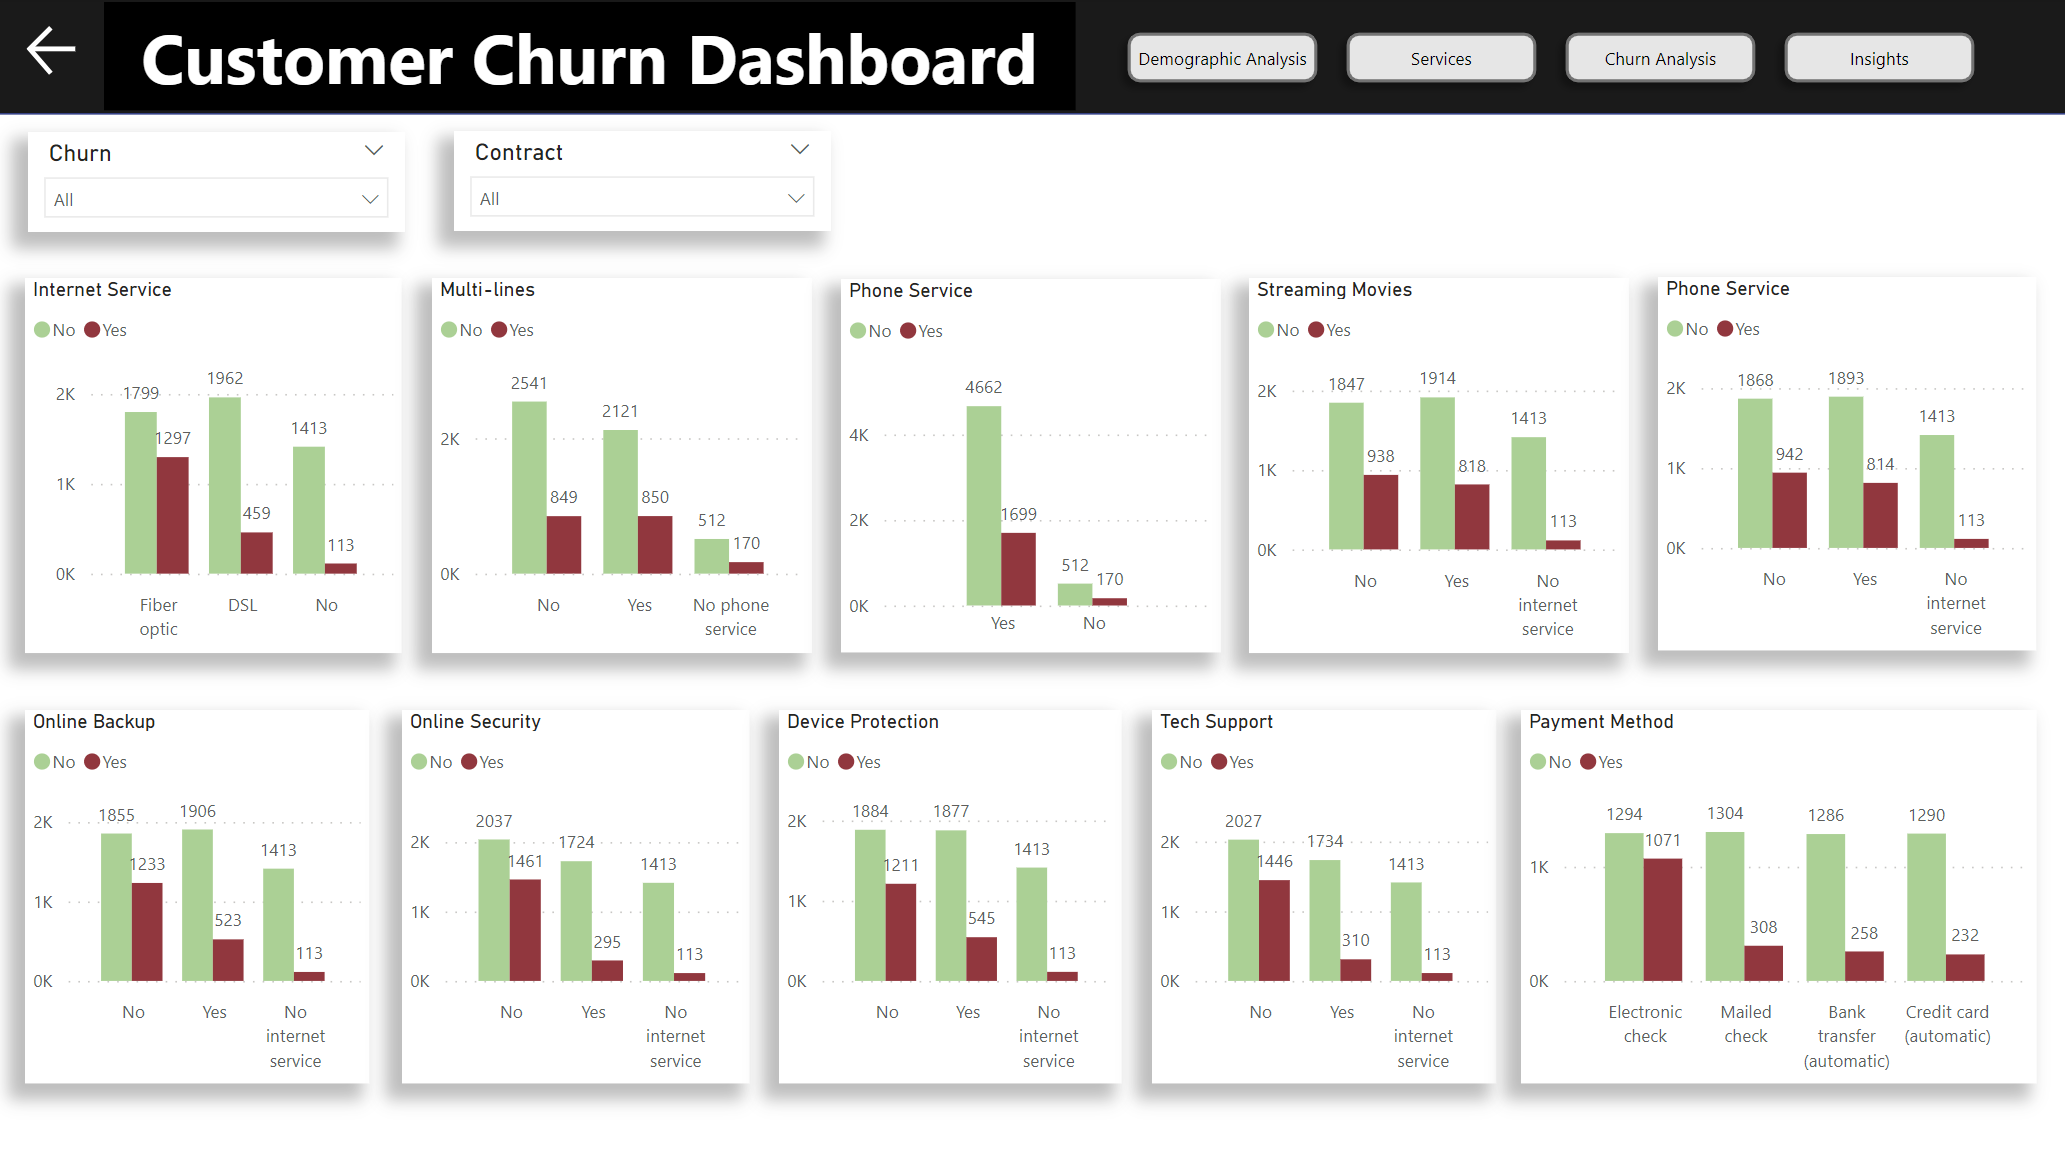

This screenshot's page, from the dashboard's own definition file:
{"tool":"powerbi","page":{"name":"Service","canvas":[1280,720],"ordinal":2},"visuals":[{"type":"group","id":"g1","title":"Group 4","box":[0,0,1279.8,72.4],"z":0},{"type":"shape","box":[0,0,1279.8,72.4],"z":0,"group":"g1"},{"type":"shape","box":[689.7,12.4,135.5,48.9],"z":0,"group":"g3"},{"type":"clusteredColumnChart","title":"Internet Service","fields":{"Category":["Telco_Churn.Internet Service"],"Y":["CountNonNull(Telco_Churn.Churn Label)"],"Series":["Telco_Churn.Churn Label"]},"box":[16.9,173,233.2,231.5],"z":0,"group":"g2"},{"type":"actionButton","box":[13.6,12.4,52,40.2],"z":1000,"group":"g1"},{"type":"shape","box":[960.6,12.4,135.5,48.9],"z":1000,"group":"g3"},{"type":"slicer","title":"vsv","fields":{"Values":["Telco_Churn.Churn Label"]},"box":[18.6,82.9,233.2,61.9],"z":1000},{"type":"clusteredColumnChart","title":"Multi-lines","fields":{"Category":["Telco_Churn.Multiple Lines"],"Y":["CountNonNull(Telco_Churn.Churn Label)"],"Series":["Telco_Churn.Churn Label"]},"box":[268.7,173,235.1,231.5],"z":1000,"group":"g2"},{"type":"textbox","box":[65.6,2.5,600.6,67.4],"z":2000,"group":"g1"},{"type":"shape","box":[825.2,12.4,135.5,48.9],"z":2000,"group":"g3"},{"type":"group","id":"g2","title":"Group 1","box":[16.9,172.5,1244.3,232],"z":2000},{"type":"clusteredColumnChart","title":"Phone Service","fields":{"Category":["Telco_Churn.Phone Service"],"Y":["CountNonNull(Telco_Churn.Churn Label)"],"Series":["Telco_Churn.Churn Label"]},"box":[521.4,173.4,235,230.6],"z":2000,"group":"g2"},{"type":"clusteredColumnChart","title":"Online Backup","fields":{"Category":["Telco_Churn.Online Backup"],"Y":["CountNonNull(Telco_Churn.Churn Label)"],"Series":["Telco_Churn.Churn Label"]},"box":[16.9,440.6,212.5,231.2],"z":2000,"group":"g4"},{"type":"group","id":"g3","title":"Group 3","box":[689.7,12.4,541.9,48.9],"z":3000,"group":"g1"},{"type":"shape","box":[1096.1,12.4,135.5,48.9],"z":3000,"group":"g3"},{"type":"clusteredColumnChart","title":"Streaming Movies","fields":{"Category":["Telco_Churn.Streaming Movies"],"Y":["CountNonNull(Telco_Churn.Churn Label)"],"Series":["Telco_Churn.Churn Label"]},"box":[774,173,235.1,231.5],"z":3000,"group":"g2"},{"type":"group","id":"g4","title":"Group 2","box":[16.9,440.6,1244.4,231.2],"z":3000},{"type":"slicer","title":"vsv","fields":{"Values":["Telco_Churn.Contract"]},"box":[281.9,82.5,233.1,61.9],"z":4000},{"type":"clusteredColumnChart","title":"Phone Service","fields":{"Category":["Telco_Churn.Streaming TV"],"Y":["CountNonNull(Telco_Churn.Churn Label)"],"Series":["Telco_Churn.Churn Label"]},"box":[1026.8,172.5,234.4,231.2],"z":4000,"group":"g2"},{"type":"clusteredColumnChart","title":"Online Security","fields":{"Category":["Telco_Churn.Online Security"],"Y":["CountNonNull(Telco_Churn.Churn Label)"],"Series":["Telco_Churn.Churn Label"]},"box":[250,440.6,215,231.2],"z":4000,"group":"g4"},{"type":"clusteredColumnChart","title":"Device Protection","fields":{"Category":["Telco_Churn.Device Protection"],"Y":["CountNonNull(Telco_Churn.Churn Label)"],"Series":["Telco_Churn.Churn Label"]},"box":[483.1,440.6,211.9,231.2],"z":5000,"group":"g4"},{"type":"clusteredColumnChart","title":"Tech Support","fields":{"Category":["Telco_Churn.Tech Support"],"Y":["CountNonNull(Telco_Churn.Churn Label)"],"Series":["Telco_Churn.Churn Label"]},"box":[713.8,440.6,213.1,231.2],"z":6000,"group":"g4"},{"type":"clusteredColumnChart","title":"Payment Method","fields":{"Category":["Telco_Churn.Payment Method"],"Y":["CountNonNull(Telco_Churn.Churn Label)"],"Series":["Telco_Churn.Churn Label"]},"box":[942.5,440.6,318.8,231.2],"z":7000,"group":"g4"}]}

Visuals, with their boxes in screenshot pixels (x1, y1, x2, y2), scaled from the page's 1280x720 canvas onto the 2065x1162 screenshot:
"Group 4" group: <region>0, 0, 2064, 117</region>
shape: <region>0, 0, 2064, 117</region>
shape: <region>1113, 20, 1331, 99</region>
"Internet Service" clusteredColumnChart: <region>27, 279, 403, 653</region>
actionButton: <region>22, 20, 106, 85</region>
shape: <region>1550, 20, 1768, 99</region>
"vsv" slicer: <region>30, 134, 406, 234</region>
"Multi-lines" clusteredColumnChart: <region>433, 279, 813, 653</region>
textbox: <region>106, 4, 1075, 113</region>
shape: <region>1331, 20, 1550, 99</region>
"Group 1" group: <region>27, 278, 2035, 653</region>
"Phone Service" clusteredColumnChart: <region>841, 280, 1220, 652</region>
"Online Backup" clusteredColumnChart: <region>27, 711, 370, 1084</region>
"Group 3" group: <region>1113, 20, 1987, 99</region>
shape: <region>1768, 20, 1987, 99</region>
"Streaming Movies" clusteredColumnChart: <region>1249, 279, 1628, 653</region>
"Group 2" group: <region>27, 711, 2035, 1084</region>
"vsv" slicer: <region>455, 133, 831, 233</region>
"Phone Service" clusteredColumnChart: <region>1657, 278, 2035, 652</region>
"Online Security" clusteredColumnChart: <region>403, 711, 750, 1084</region>
"Device Protection" clusteredColumnChart: <region>779, 711, 1121, 1084</region>
"Tech Support" clusteredColumnChart: <region>1152, 711, 1495, 1084</region>
"Payment Method" clusteredColumnChart: <region>1521, 711, 2035, 1084</region>
